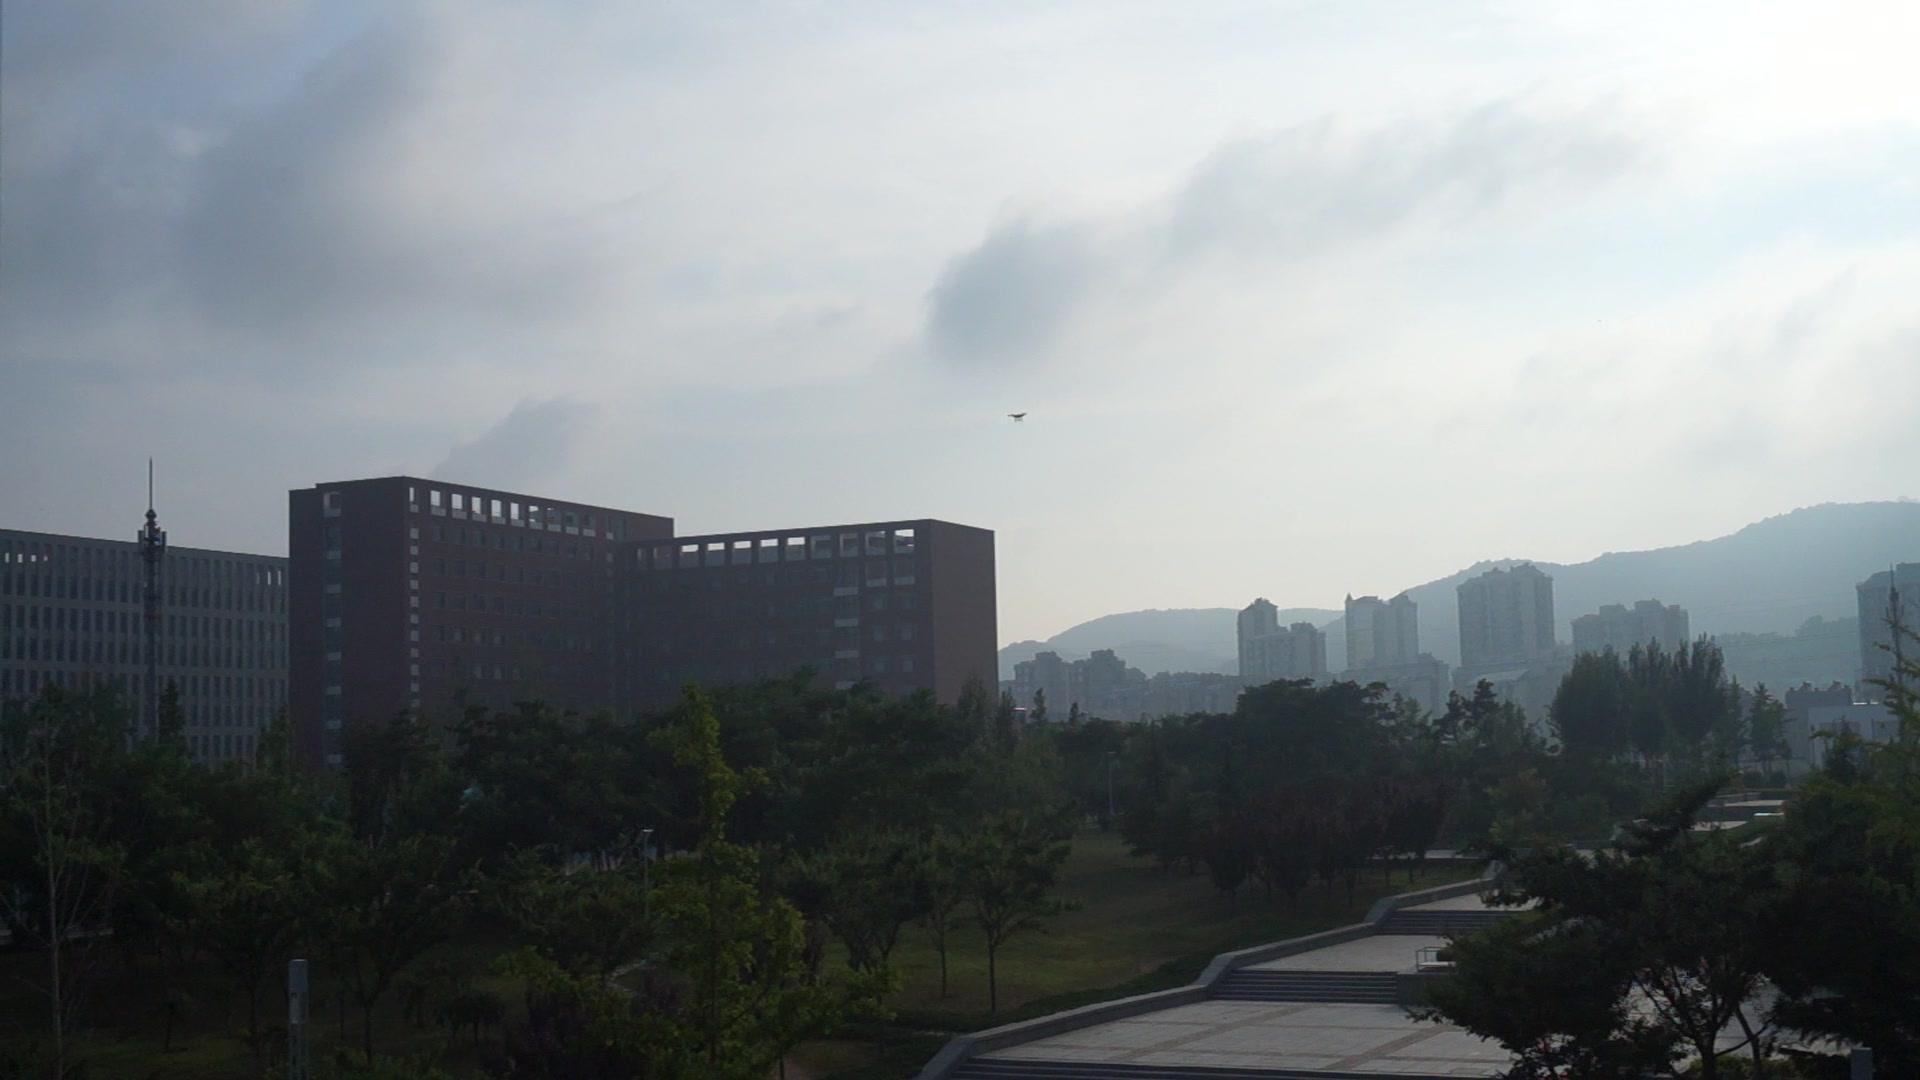UAV: (1007, 414, 1029, 423)
